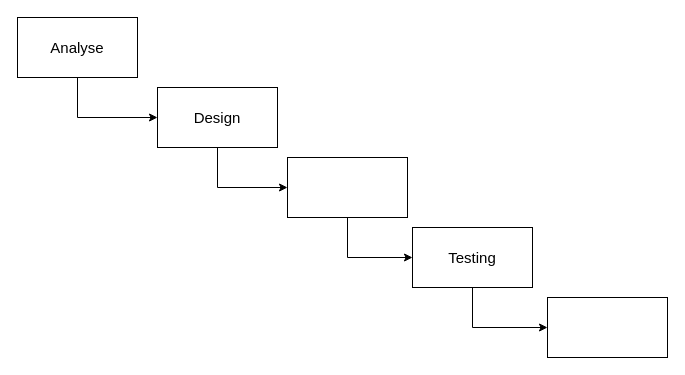
Some shapes in this 685 by 375 pixel diagram are drawn without their labels. The shapes that lost their labels are listed below. From the top down, each one's centre as x and y in pixels, then its label:
At point 347,187: "Implementation".
At point 607,327: "Maintenence".
